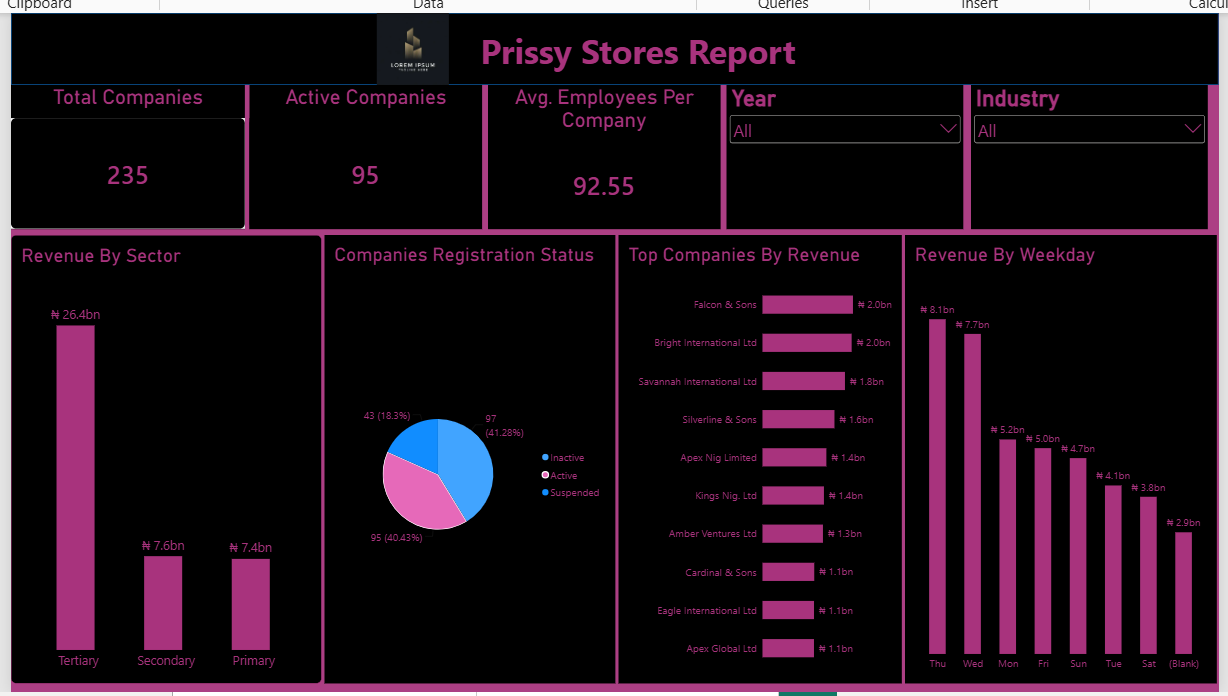

The page's visual inventory and layout, read from the dashboard file:
{"tool":"powerbi","page":{"name":"Revenue & Company Analysis","canvas":[1920,1080],"ordinal":1},"visuals":[{"type":"shape","box":[0,0,1920.7,114.5],"z":0},{"type":"textbox","box":[706.2,23.9,582.2,90.7],"z":1000},{"type":"image","box":[250.5,0,777.8,114.5],"z":2000},{"type":"columnChart","title":"Revenue By Sector","fields":{"Category":["Combined Table.Industry.Sector_Group"],"Y":["Measures (2).Total_revenue"]},"box":[0,353.1,493.9,713.4],"z":6000},{"type":"pieChart","title":"Companies Registration Status","fields":{"Category":["Combined Table.Registration_Status"],"Y":["Measures (2).Total_companies"]},"box":[498.7,353.1,462.9,713.4],"z":7000},{"type":"barChart","title":"Top Companies By Revenue","fields":{"Category":["Combined Table.Company_Name"],"Y":["Measures (2).Total_revenue"]},"box":[966.3,353.1,450.9,713.4],"z":8000},{"type":"columnChart","title":" Revenue By Weekday","fields":{"Category":["Combined Table.Date.Weekday_Name"],"Y":["Measures (2).Total_revenue"]},"box":[1422,353.1,496.3,713.4],"z":9000},{"type":"slicer","title":"Year","fields":{"Values":["Combined Table.Date.Year"]},"box":[1138.1,114.5,377,229],"z":10000},{"type":"slicer","fields":{"Values":["Combined Table.Industry.Industry"]},"box":[1527,114.5,377,229],"z":11000},{"type":"cardVisual","title":"Total Companies","fields":{"Data":["Measures (2).Total_companies"]},"box":[0,114.5,372.2,229],"z":11001},{"type":"cardVisual","title":" Active Companies","fields":{"Data":["Measures (2).Total_Active_Companies"]},"box":[379.4,114.5,369.8,229],"z":11002},{"type":"cardVisual","title":"Avg. Employees Per Company","fields":{"Data":["Measures (2).Average_Empoyee_count"]},"box":[758.7,114.5,369.8,229],"z":11003}]}

Visuals, with their boxes in screenshot pixels (x1, y1, x2, y2):
shape: 6/10/1218/82
textbox: 452/25/819/82
image: 164/10/655/82
"Revenue By Sector" columnChart: 6/232/318/682
"Companies Registration Status" pieChart: 321/232/613/682
"Top Companies By Revenue" barChart: 616/232/900/682
" Revenue By Weekday" columnChart: 903/232/1216/682
"Year" slicer: 724/82/962/226
slicer - Combined Table.Industry.Industry: 970/82/1207/226
"Total Companies" cardVisual: 6/82/241/226
" Active Companies" cardVisual: 246/82/479/226
"Avg. Employees Per Company" cardVisual: 485/82/718/226
